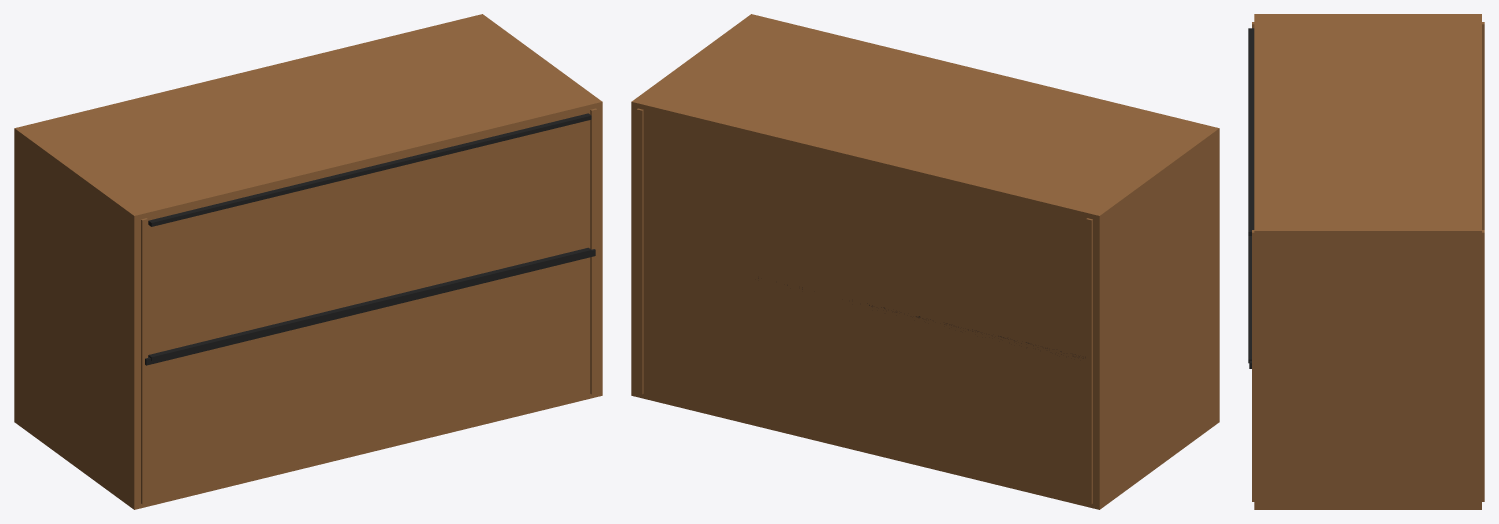
The model's file is BTH-0034.glb.
The picture shows the model from 3 angles, left to right: view 1: azimuth 30°, elevation 25°; view 2: azimuth 150°, elevation 25°; view 3: azimuth 270°, elevation 25°; orthographic projection. The views are drawn at different scales.
Parts seen in each view (by area): view 1: BTH-0034_Onderkast_1000; view 2: BTH-0034_Onderkast_1000; view 3: BTH-0034_Onderkast_1000.
Part boxes in pixels (<box>): BTH-0034_Onderkast_1000: <box>14,14,602,509</box>; BTH-0034_Onderkast_1000: <box>631,14,1219,509</box>; BTH-0034_Onderkast_1000: <box>1248,14,1484,509</box>.
Size of what is drawn, in the model's own units: 1 by 0.6 by 0.46.
